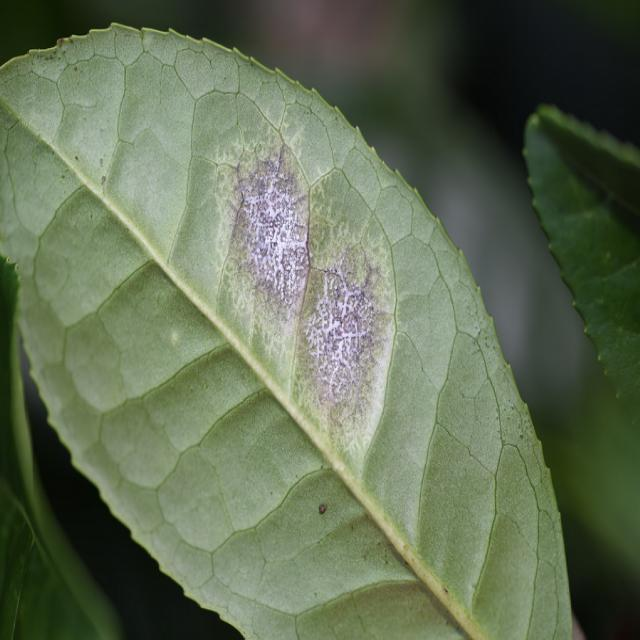Tea exobasidium blight: (289, 242, 389, 408), (231, 155, 315, 301)
